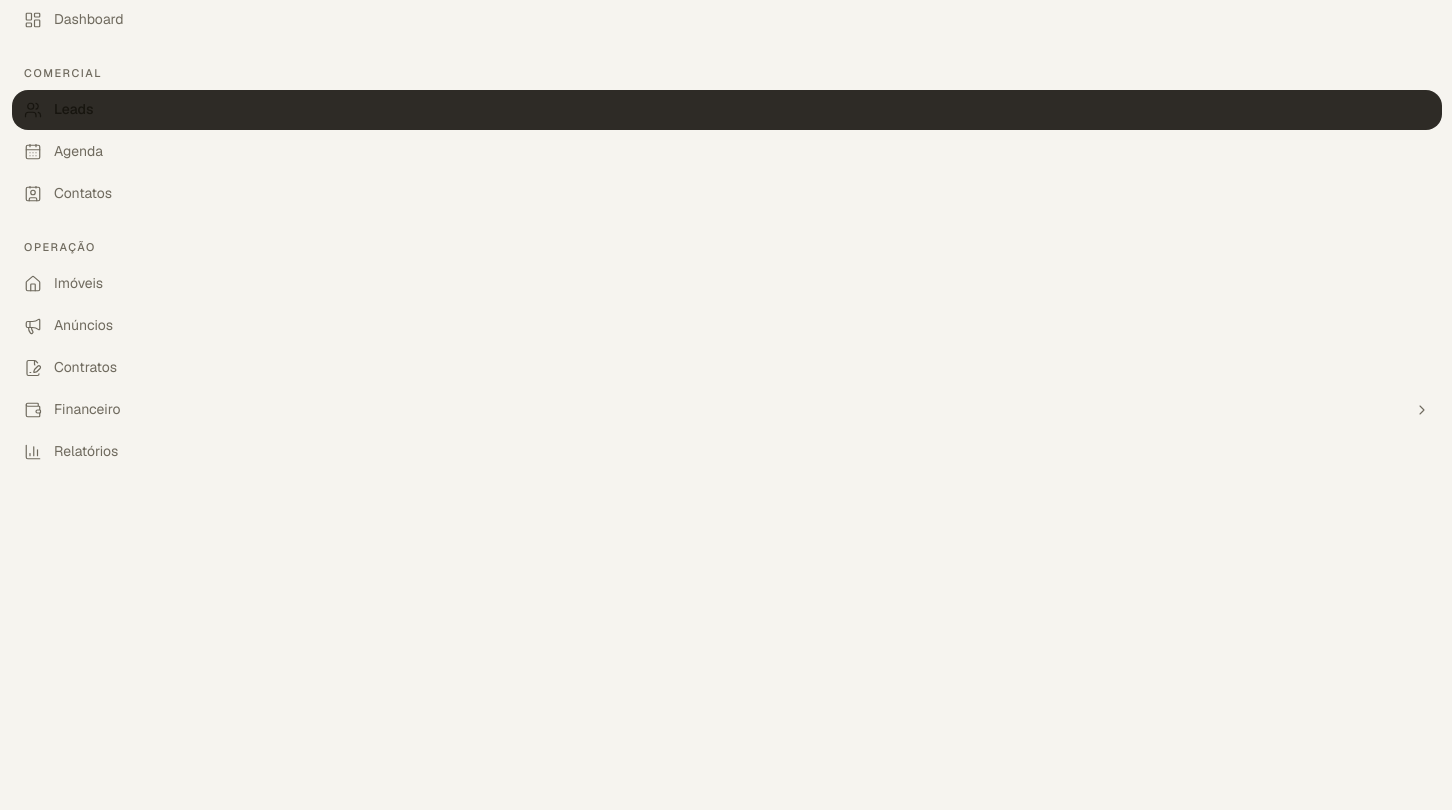
Test case: submenu do Financeiro (expandido) › começa fechado fora da rota e expande/recolhe no lugar
This screenshot has width=1452, height=810.
Expected: the link "Receitas" is not shown
What coordinates should you click on to do the following:
click the button "Financeiro"
I would click on:
 (87, 409)
Its box is [12,390,1442,430].
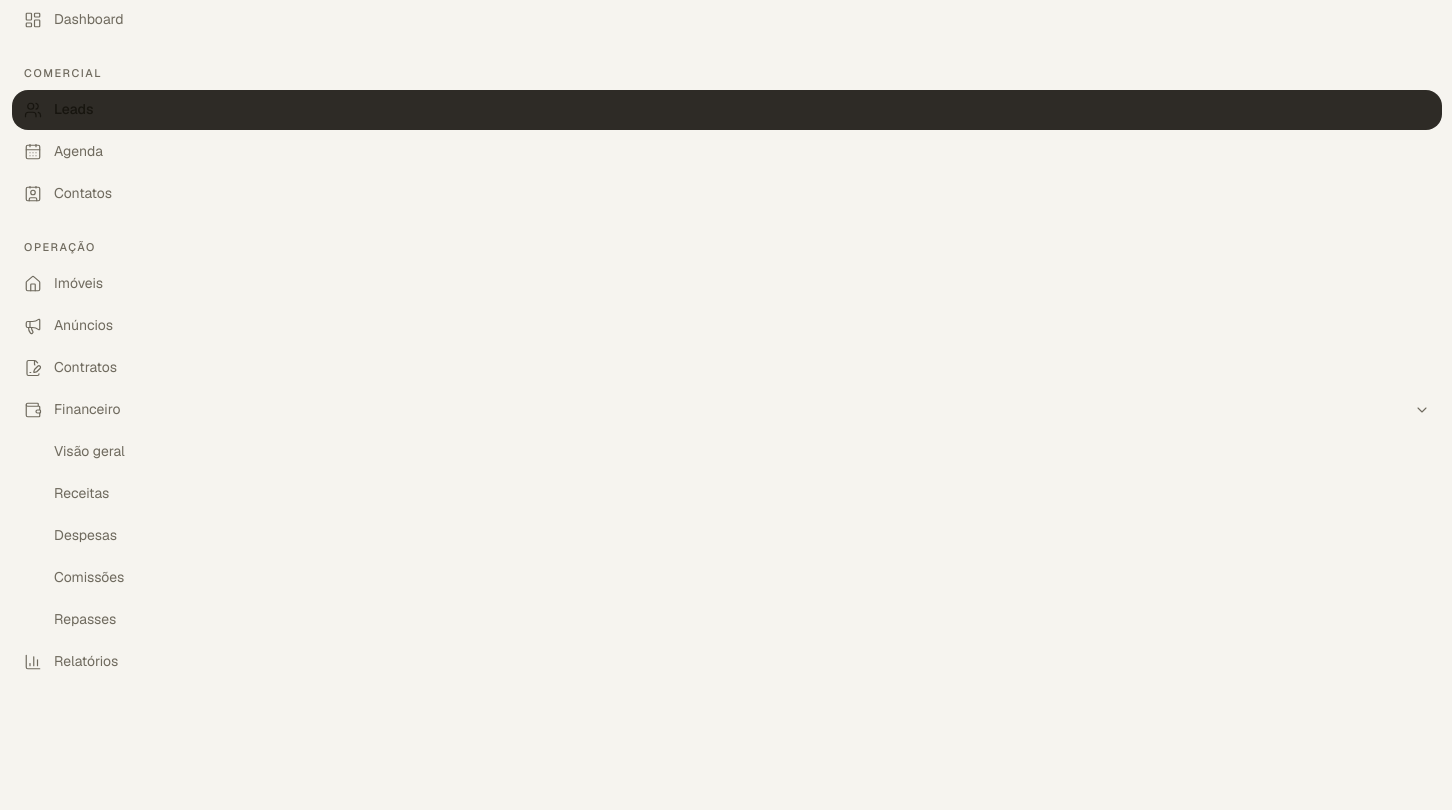
Expected: the button "Financeiro" is expanded
Expected: the link "Receitas" is shown, [54,484,109,502]
What coordinates should you click on to do the following:
click the button "Financeiro"
I would click on:
 (87, 409)
Its box is [12,390,1442,430].
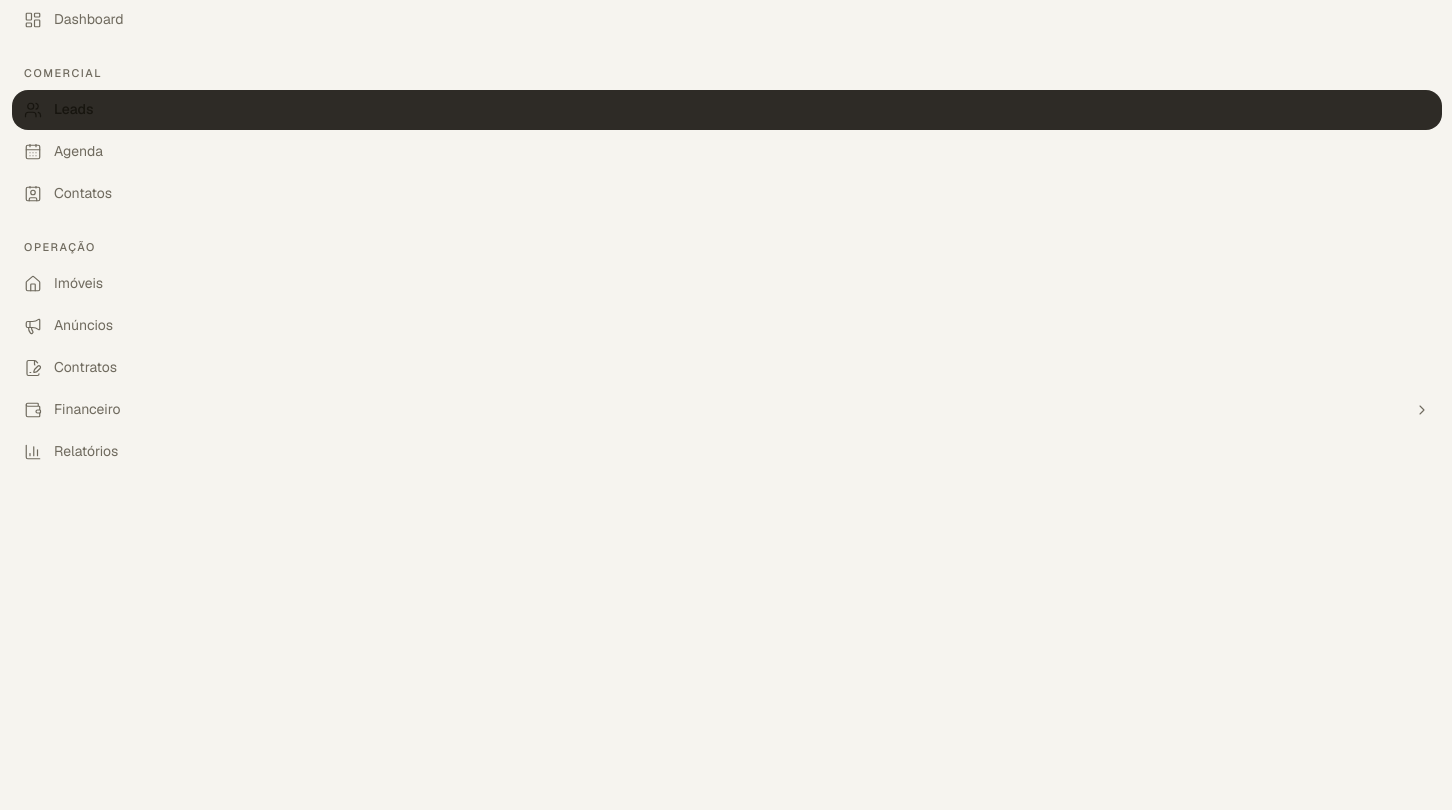
Expected: the button "Financeiro" is collapsed, [12,390,1442,430]
Expected: the link "Receitas" is gone
